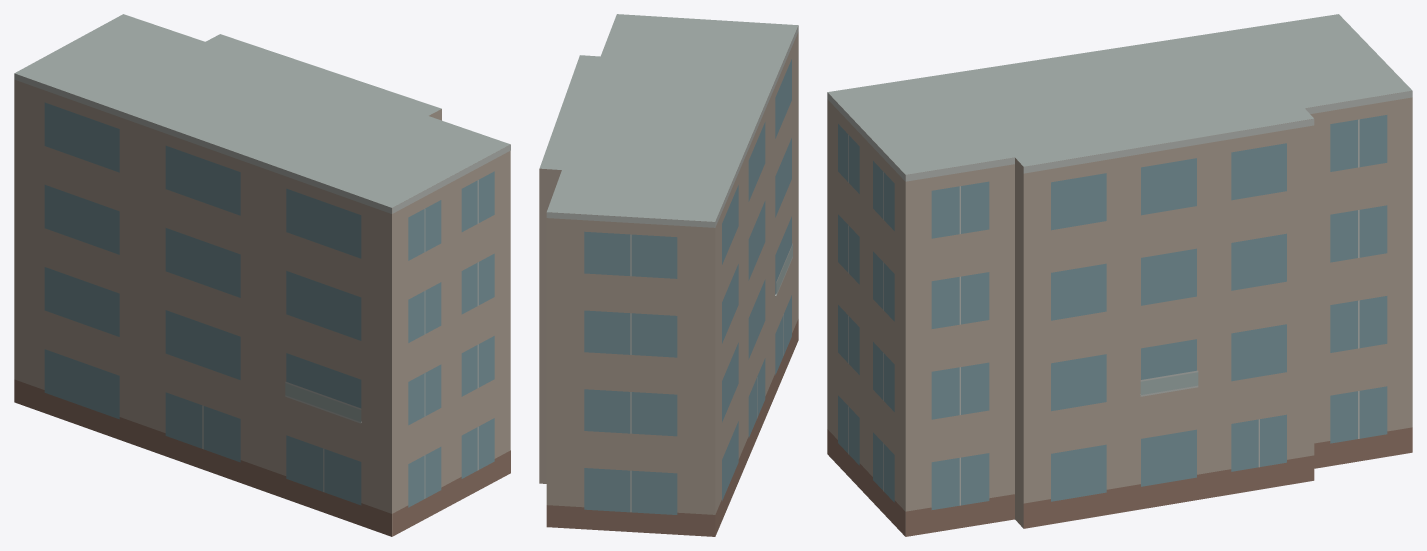
Rendered from survey-upis-32947149.glb.
3 renders of one model, left to right at view 1: azimuth 30°, elevation 25°; view 2: azimuth 150°, elevation 25°; view 3: azimuth 270°, elevation 25°, orthographic. The views are drawn at different scales.
Visible parts, largest first — view 1: survey-upis-32947149.tmp; view 2: survey-upis-32947149.tmp; view 3: survey-upis-32947149.tmp.
Boxes of the visible parts, left/top/right/bottom form: survey-upis-32947149.tmp: left=14, top=14, right=510, bottom=536; survey-upis-32947149.tmp: left=539, top=14, right=798, bottom=536; survey-upis-32947149.tmp: left=827, top=14, right=1412, bottom=536.
Bounding box in the file's own units: 12.35 × 12.95 × 18.98.
